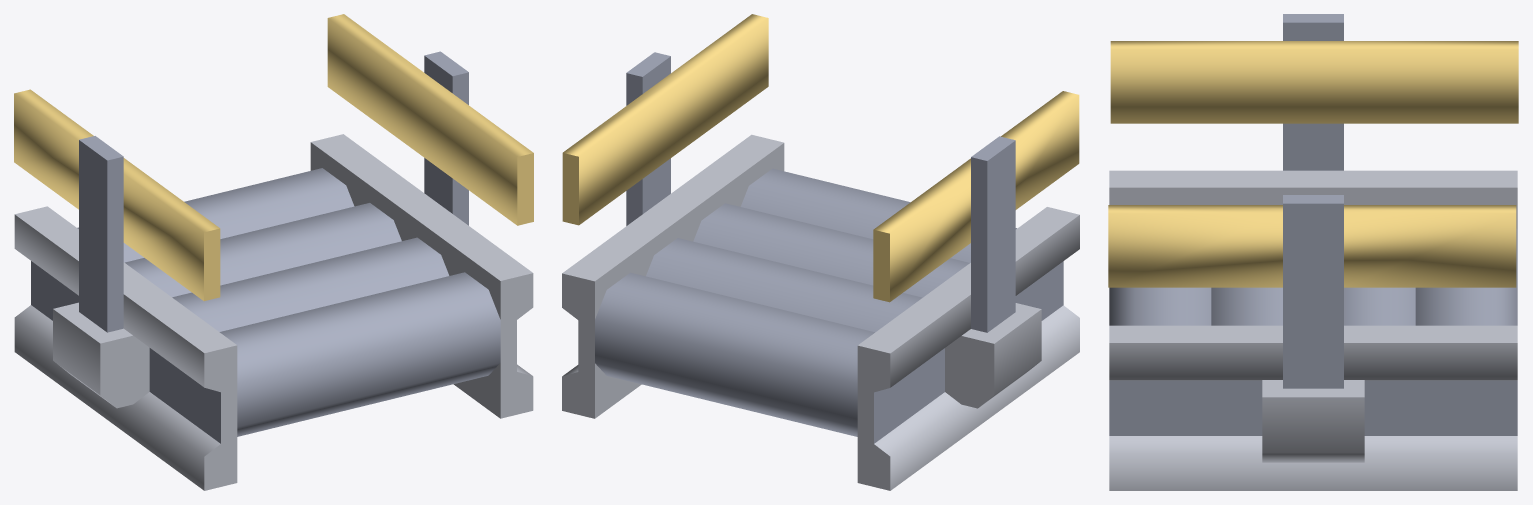
File: conveyor-bars-fence.fbx
The picture shows the model from 3 angles, left to right: view 1: azimuth 30°, elevation 25°; view 2: azimuth 150°, elevation 25°; view 3: azimuth 270°, elevation 25°; orthographic projection. The views are drawn at different scales.
Visible parts, largest first — view 1: Group.001, Group, Group.002; view 2: Group.001, Group, Group.002; view 3: Group, Group.002, Group.001.
Part boxes in pixels (x1,y1,x2,y2): Group.001: [77, 168, 500, 436]; Group: [14, 14, 533, 408]; Group.002: [14, 134, 533, 490]; Group.001: [595, 168, 1016, 436]; Group: [562, 14, 1079, 408]; Group.002: [562, 134, 1079, 490]; Group: [1108, 14, 1518, 462]; Group.002: [1109, 170, 1517, 490]; Group.001: [1109, 228, 1517, 325].
Size of the model in its own units: 120 by 80 by 101.
